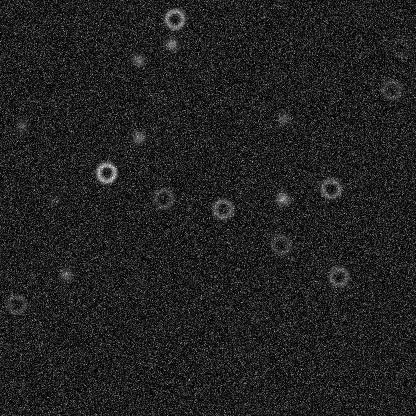Ring: (318, 176, 342, 200), (210, 196, 234, 220), (162, 6, 186, 30), (388, 35, 412, 59), (379, 77, 403, 101), (4, 292, 28, 316), (151, 186, 175, 210), (94, 160, 118, 184), (326, 264, 350, 288), (268, 232, 292, 256)
Spot: (14, 117, 30, 133), (57, 266, 73, 282), (130, 129, 146, 145), (246, 309, 262, 325), (163, 36, 179, 52), (274, 190, 290, 206), (130, 52, 146, 68), (46, 191, 62, 207), (275, 110, 291, 126)
